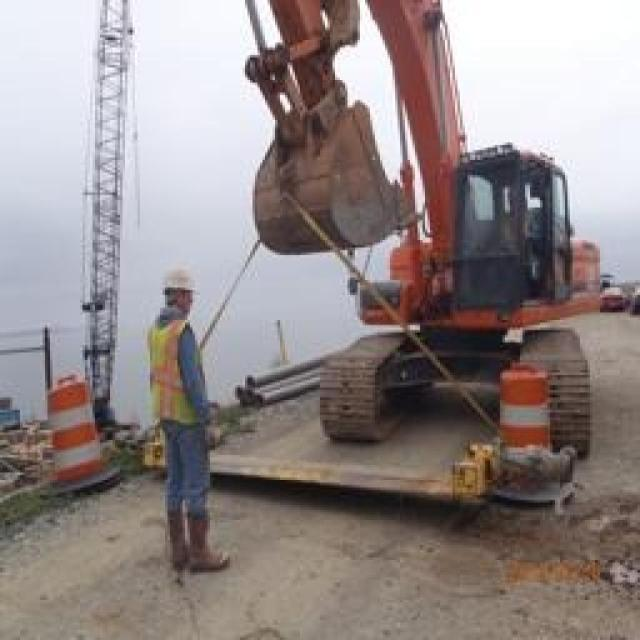Helmet: (126, 299, 218, 466), (149, 255, 215, 332)
